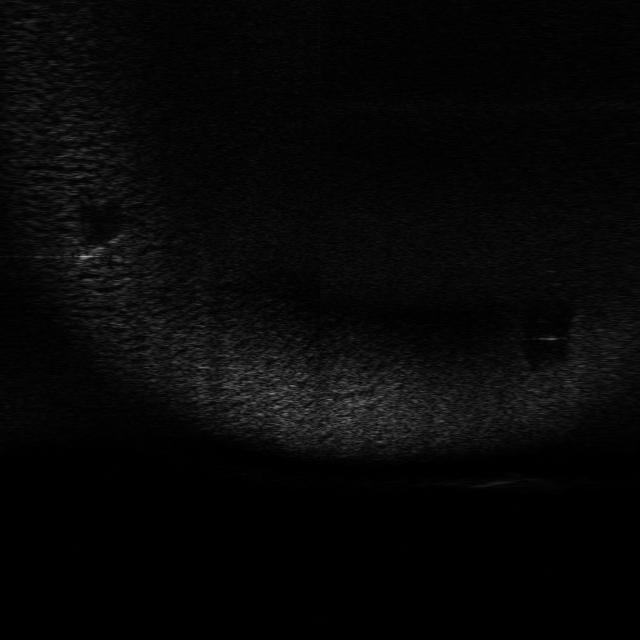plane: (68, 234, 126, 265)
